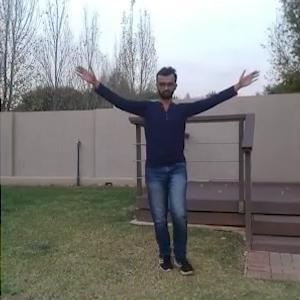takeoff: (76, 63, 262, 268)
